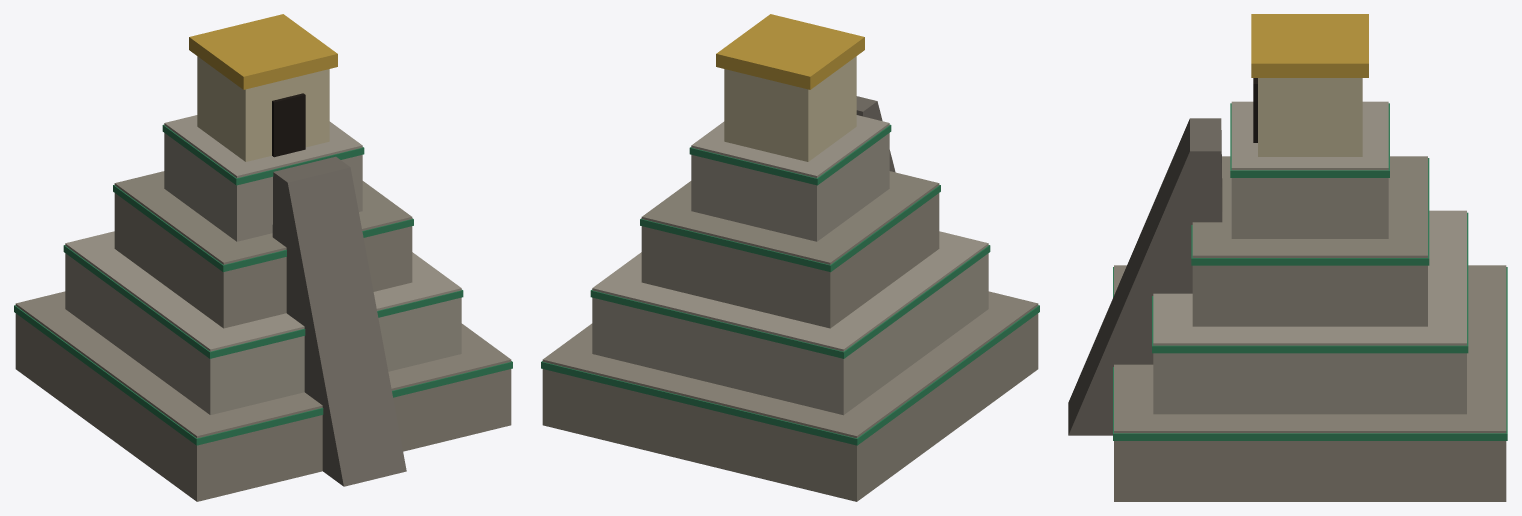
Rendered from frog_landmark_broken.glb.
3 renders of one model, left to right at view 1: azimuth 30°, elevation 25°; view 2: azimuth 150°, elevation 25°; view 3: azimuth 270°, elevation 25°, orthographic. The views are drawn at different scales.
Parts seen in each view (by area): view 1: frog_landmark_piece5, frog_landmark_piece9, frog_landmark_piece8, frog_landmark_piece7, frog_landmark_piece2, frog_landmark_piece11, frog_landmark_piece13, frog_landmark_piece1, frog_landmark_piece6, frog_landmark_piece4; view 2: frog_landmark_piece5, frog_landmark_piece7, frog_landmark_piece10, frog_landmark_piece3, frog_landmark_piece11, frog_landmark_piece0, frog_landmark_piece1, frog_landmark_piece13, frog_landmark_piece2, frog_landmark_piece9, frog_landmark_piece4, frog_landmark_piece6; view 3: frog_landmark_piece1, frog_landmark_piece8, frog_landmark_piece2, frog_landmark_piece4, frog_landmark_piece3, frog_landmark_piece6, frog_landmark_piece5, frog_landmark_piece10, frog_landmark_piece7, frog_landmark_piece9, frog_landmark_piece11, frog_landmark_piece0 (+1 smaller).
Part boxes in pixels (x1,y1,x2,y2): frog_landmark_piece5: (14,233,238,490); frog_landmark_piece9: (182,184,388,501); frog_landmark_piece8: (307,170,511,475); frog_landmark_piece7: (105,179,285,345); frog_landmark_piece2: (196,33,511,379); frog_landmark_piece11: (132,116,314,242); frog_landmark_piece13: (162,35,319,171); frog_landmark_piece1: (229,14,464,325); frog_landmark_piece6: (238,41,481,338); frog_landmark_piece4: (412,267,512,397); frog_landmark_piece5: (670,237,1038,501); frog_landmark_piece7: (697,167,963,412); frog_landmark_piece10: (564,160,762,455); frog_landmark_piece3: (541,61,794,430); frog_landmark_piece11: (760,81,891,285); frog_landmark_piece0: (669,154,809,456); frog_landmark_piece1: (560,15,794,346); frog_landmark_piece13: (779,32,864,192); frog_landmark_piece2: (763,20,844,162); frog_landmark_piece9: (889,150,1039,379); frog_landmark_piece4: (739,156,770,234); frog_landmark_piece6: (769,14,795,56); frog_landmark_piece1: (1212,28,1469,501); frog_landmark_piece8: (1068,130,1231,501); frog_landmark_piece2: (1113,17,1384,432); frog_landmark_piece4: (1113,126,1414,501); frog_landmark_piece3: (1343,22,1507,501); frog_landmark_piece6: (1175,31,1332,501); frog_landmark_piece5: (1115,210,1507,344); frog_landmark_piece10: (1384,130,1507,408); frog_landmark_piece7: (1222,156,1507,352); frog_landmark_piece9: (1068,134,1231,425); frog_landmark_piece11: (1178,101,1429,205); frog_landmark_piece0: (1363,112,1507,361).
Size of the model in its own units: 3.02 by 3.21 by 3.36.
